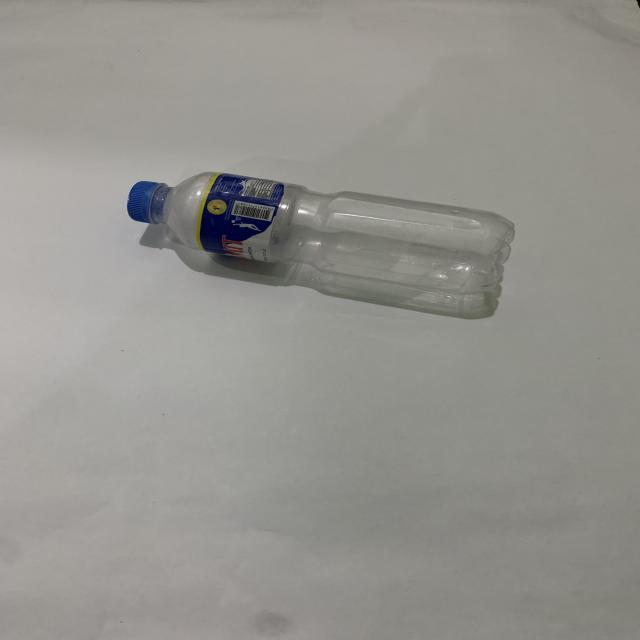bottle: (104, 159, 531, 318)
